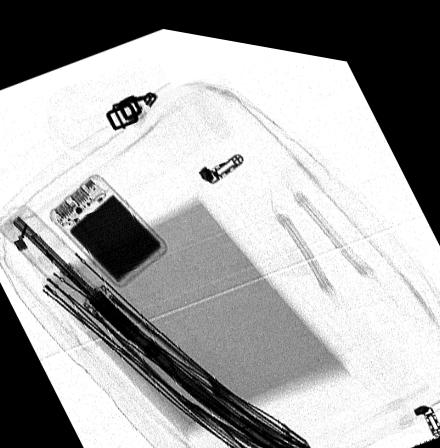Powerbank: (50, 171, 169, 282)
